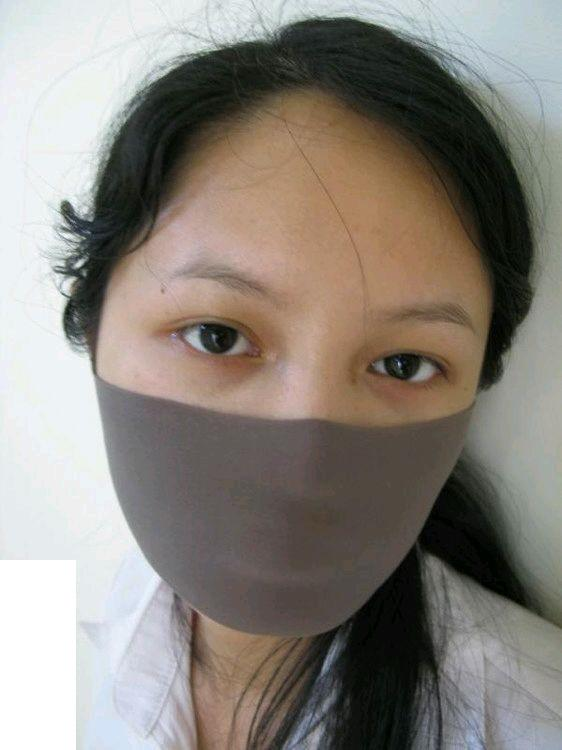OK: (104, 256, 489, 628)
